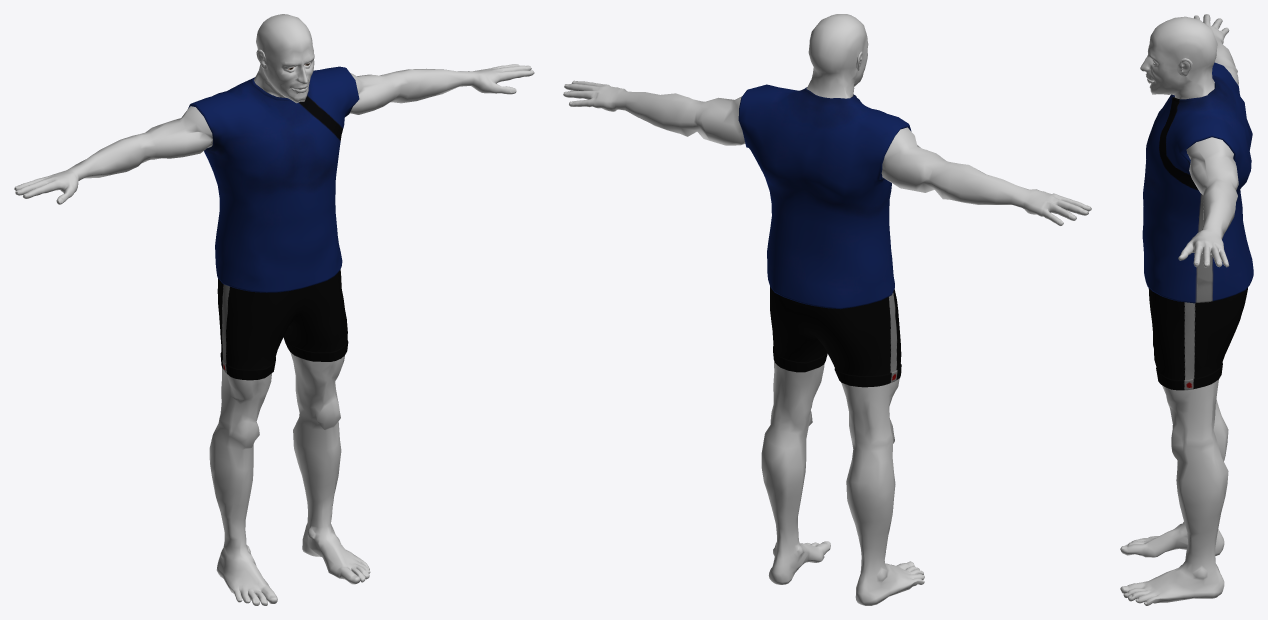
File: Body.gltf
The picture shows the model from 3 angles, left to right: view 1: azimuth 30°, elevation 25°; view 2: azimuth 150°, elevation 25°; view 3: azimuth 270°, elevation 25°; orthographic projection.
Parts seen in each view (by area): view 1: Male_Body_No_Genitals_Geo, Man_Upper, Man_Torso; view 2: Male_Body_No_Genitals_Geo, Man_Upper, Man_Torso; view 3: Male_Body_No_Genitals_Geo, Man_Upper, Man_Torso.
Part boxes in pixels (<box>): Male_Body_No_Genitals_Geo: <box>14,14,534,605</box>; Man_Upper: <box>188,66,359,292</box>; Man_Torso: <box>217,270,348,380</box>; Male_Body_No_Genitals_Geo: <box>563,14,1091,605</box>; Man_Upper: <box>738,84,911,309</box>; Man_Torso: <box>770,286,901,387</box>; Male_Body_No_Genitals_Geo: <box>1120,14,1238,605</box>; Man_Upper: <box>1142,62,1253,303</box>; Man_Torso: <box>1148,288,1247,390</box>.
Size of the model in its own units: 174 by 180 by 39.15.
